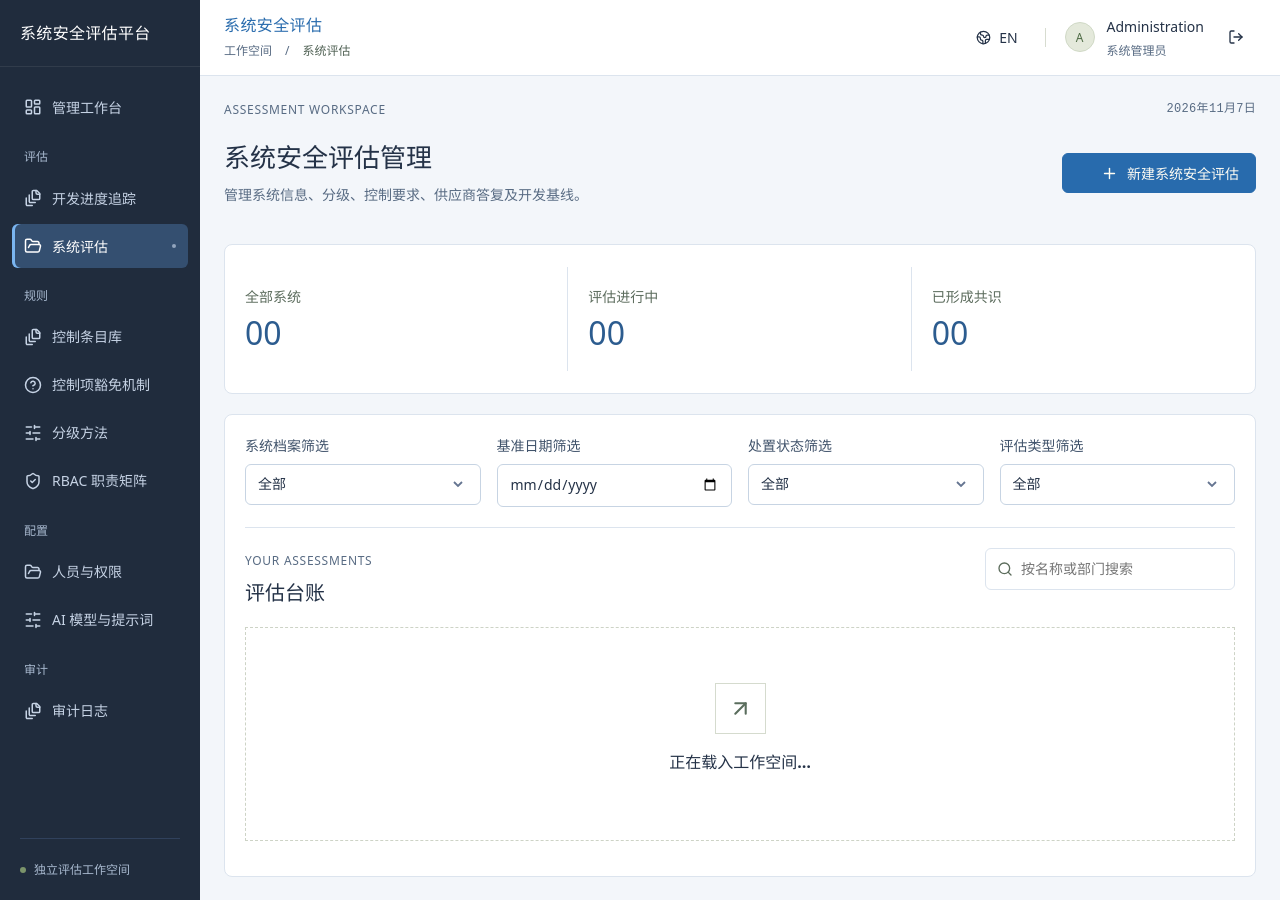
Test: labels an administrator independently of the legacy owner type in both languages
Expected: the text "Administration" is shown, [1107,14,1204,38]
Expected: the text "系统管理员" is shown, [1107,42,1167,59]
What coordinates should you click on to do the following:
click the button with aria-label "切换为 English"
I would click on:
 (997, 38)
Its box is [968,18,1026,58].
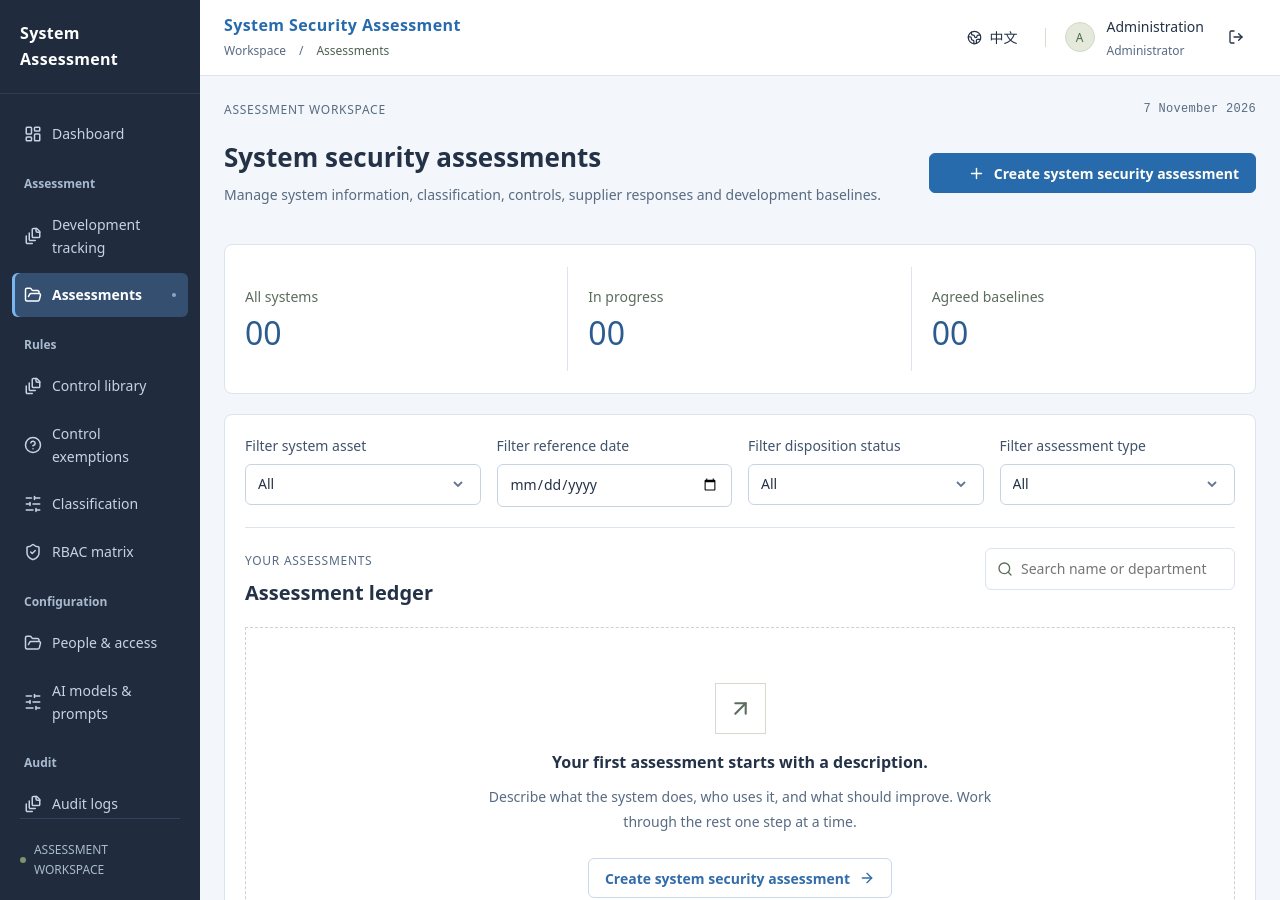
Expected: the text "Administration" is shown, [1107,14,1204,38]
Expected: the text "Administrator" is shown, [1107,42,1185,59]
